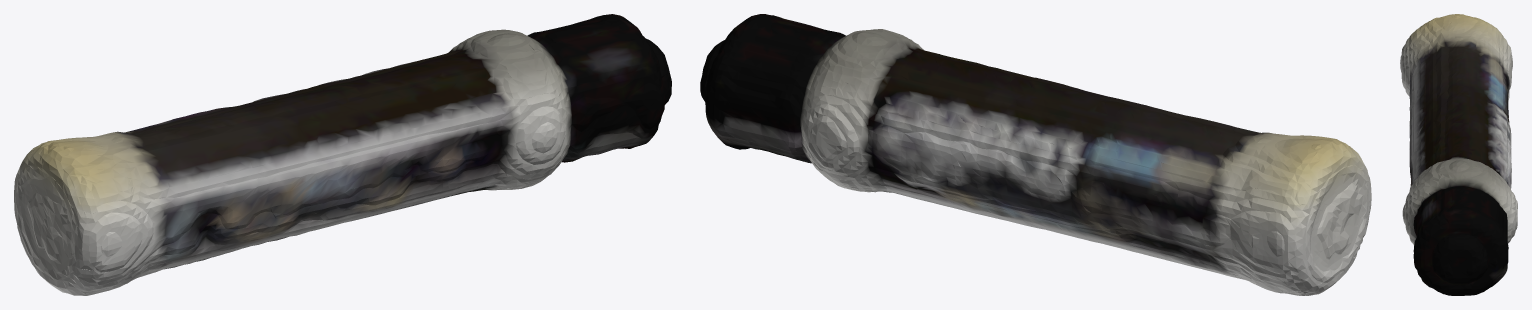
The model's file is marker_1.glb.
3 views of the same model, side by side, from view 1: azimuth 30°, elevation 25°; view 2: azimuth 150°, elevation 25°; view 3: azimuth 270°, elevation 25° (orthographic). The views are drawn at different scales.
Parts seen in each view (by area): view 1: geometry_0; view 2: geometry_0; view 3: geometry_0.
Part boxes in pixels (bbox=[...]): geometry_0: bbox=[14, 14, 671, 295]; geometry_0: bbox=[700, 14, 1371, 295]; geometry_0: bbox=[1400, 14, 1517, 295].
Bounding box in the file's own units: 1 × 0.2294 × 0.2377.
